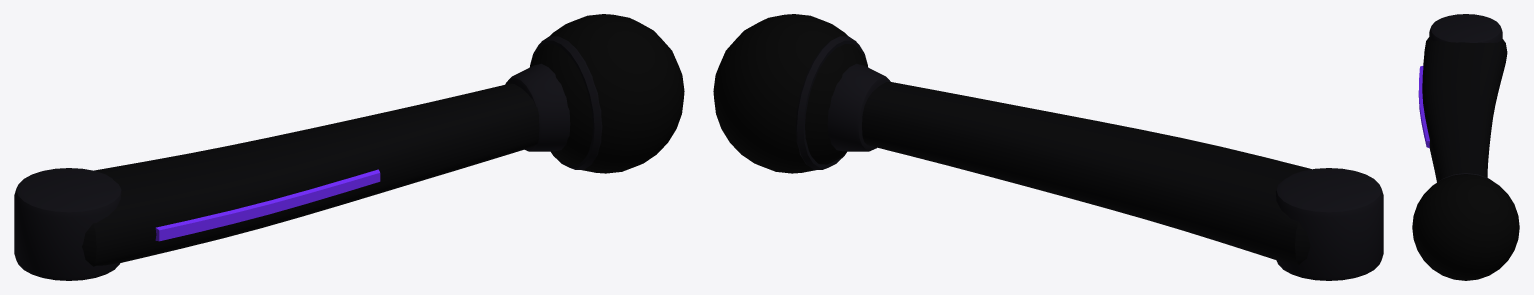
The model's file is tibia.obj.
The picture shows the model from 3 angles, left to right: view 1: azimuth 30°, elevation 25°; view 2: azimuth 150°, elevation 25°; view 3: azimuth 270°, elevation 25°; orthographic projection. The views are drawn at different scales.
Parts seen in each view (by area): view 1: tibia; view 2: tibia; view 3: tibia.
Boxes of the visible parts, <box> form: tibia: <box>14,14,684,280</box>; tibia: <box>713,14,1383,280</box>; tibia: <box>1412,14,1519,280</box>.
Size of the model in its own units: 0.207 by 0.044 by 0.044.
